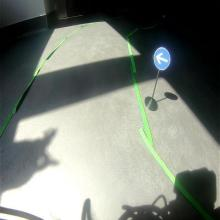left: (153, 46, 170, 69)
